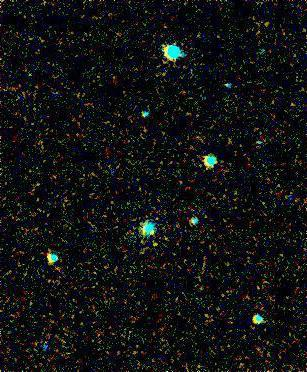star: (142, 235, 172, 265)
